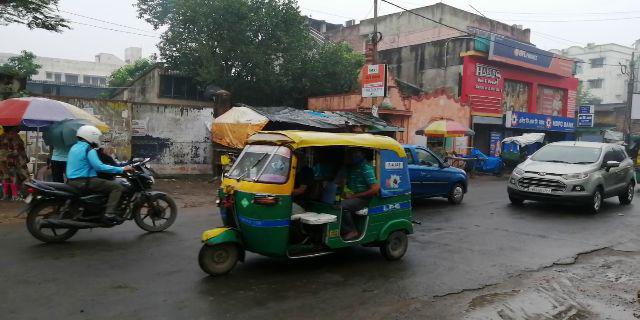Autorickshaw: (202, 134, 420, 260)
Car: (509, 139, 635, 212), (402, 143, 470, 204)
Motorbike: (27, 128, 179, 245)
